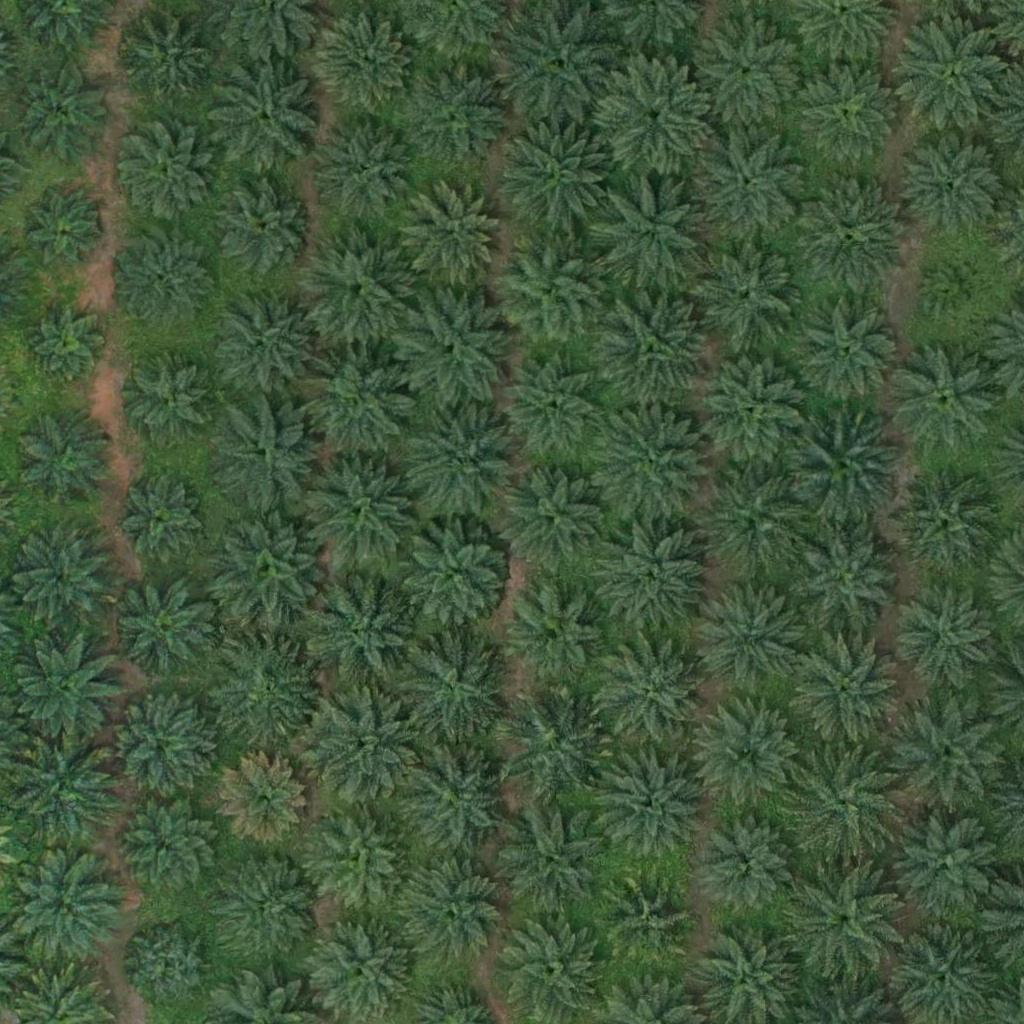Kelapa_Sawit: (897, 17, 1010, 131), (9, 632, 122, 746), (492, 233, 605, 347), (597, 291, 710, 405), (597, 409, 710, 523), (696, 465, 809, 579), (697, 580, 810, 694), (6, 855, 119, 969), (599, 60, 712, 173), (596, 172, 709, 285), (505, 9, 618, 122), (498, 121, 611, 234), (207, 61, 320, 174), (205, 173, 318, 286), (206, 286, 319, 399), (212, 399, 325, 512), (212, 513, 325, 626), (302, 454, 415, 567), (304, 580, 417, 693), (307, 690, 420, 803), (593, 522, 706, 635), (600, 640, 713, 753), (693, 699, 806, 812), (889, 343, 1002, 456), (886, 465, 999, 578), (788, 866, 901, 979), (399, 743, 512, 856), (7, 730, 120, 843), (698, 355, 810, 469), (790, 520, 902, 634), (789, 637, 901, 751), (892, 698, 1004, 812), (795, 181, 907, 294), (694, 18, 806, 131), (698, 128, 810, 241), (401, 62, 513, 175), (213, 635, 325, 748), (298, 232, 410, 345), (301, 348, 413, 461), (400, 292, 512, 405), (406, 404, 518, 517), (400, 516, 512, 629), (395, 629, 507, 742), (499, 459, 611, 572), (496, 689, 608, 802), (692, 237, 804, 350), (790, 413, 902, 526), (784, 746, 896, 859), (889, 810, 1001, 923), (593, 743, 705, 856), (497, 802, 609, 915), (404, 181, 504, 282), (312, 13, 412, 114), (317, 119, 417, 220), (114, 9, 214, 110), (17, 405, 117, 506), (12, 530, 112, 631), (118, 355, 218, 456), (111, 578, 211, 679), (508, 582, 608, 683), (800, 302, 900, 403), (401, 857, 501, 958), (312, 808, 412, 909), (119, 794, 219, 895), (221, 854, 321, 955), (905, 134, 1005, 234), (798, 65, 898, 165), (115, 125, 215, 225), (115, 229, 215, 329), (13, 61, 113, 161), (111, 694, 211, 794), (503, 360, 603, 460), (895, 585, 995, 685), (311, 920, 411, 1020), (604, 877, 692, 966), (25, 298, 113, 386), (115, 474, 203, 562), (219, 755, 307, 843), (705, 820, 792, 908), (127, 922, 214, 1010), (25, 193, 100, 269), (926, 259, 988, 322)
